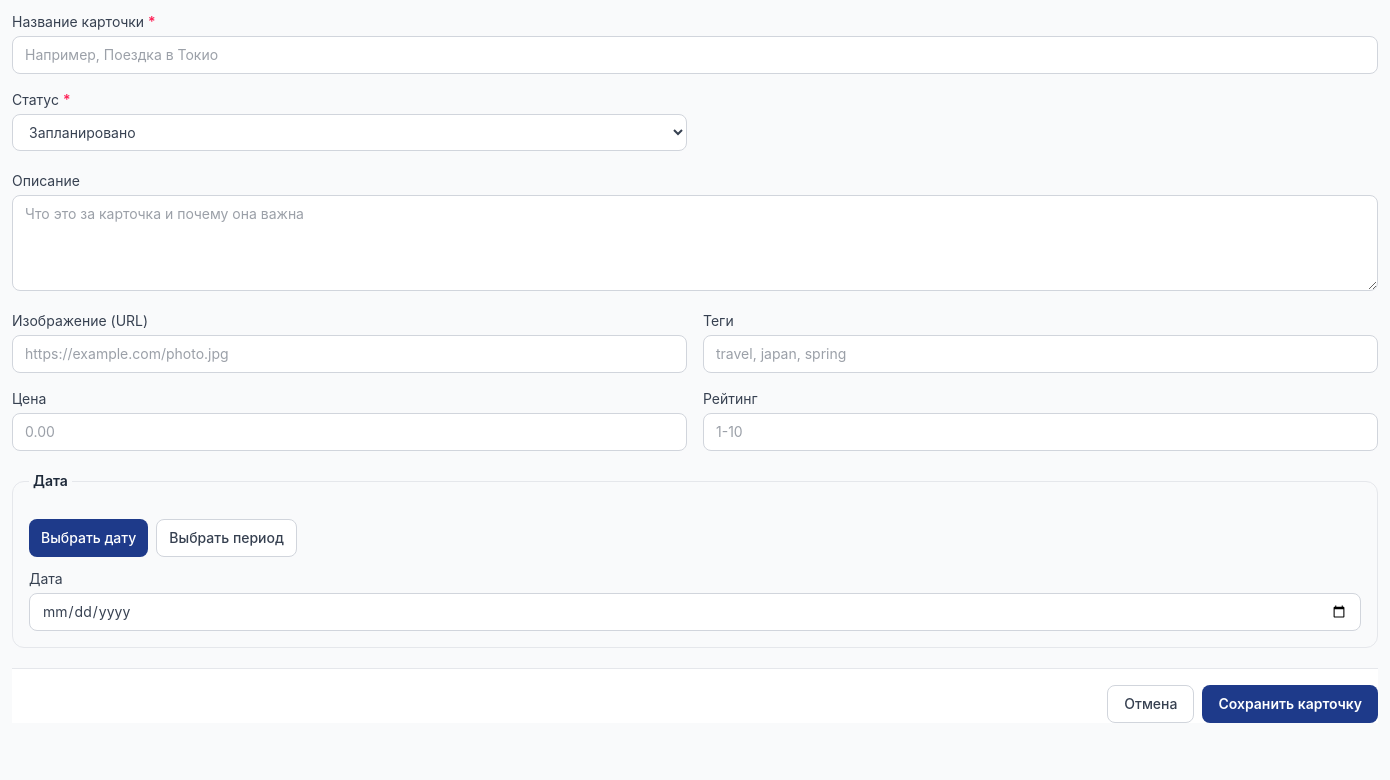
Test: EntryForm › shows russian validation for empty entry title
Click the button "Сохранить карточку" at (1290, 704), box [1202,685,1378,723]
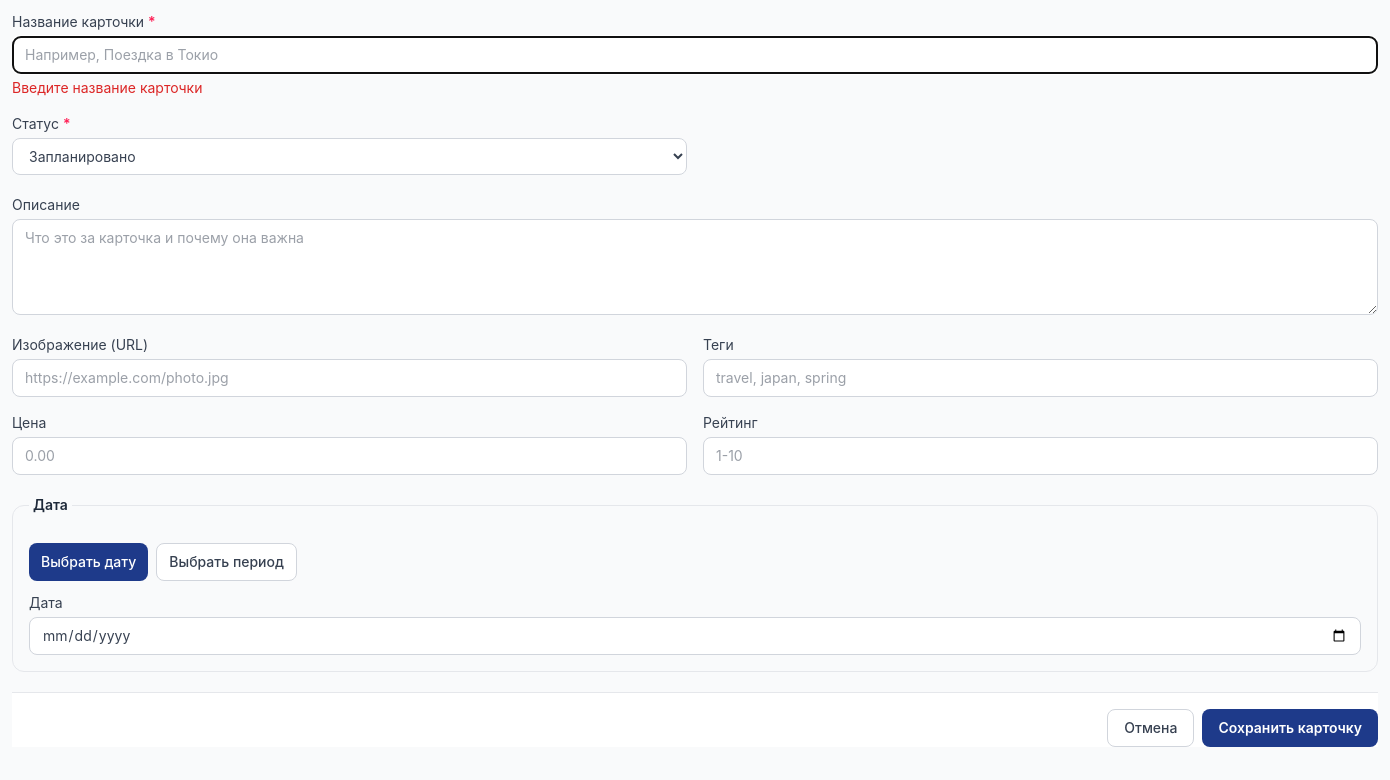
Now the text "Введите название карточки" is shown, box [12,79,202,96]
